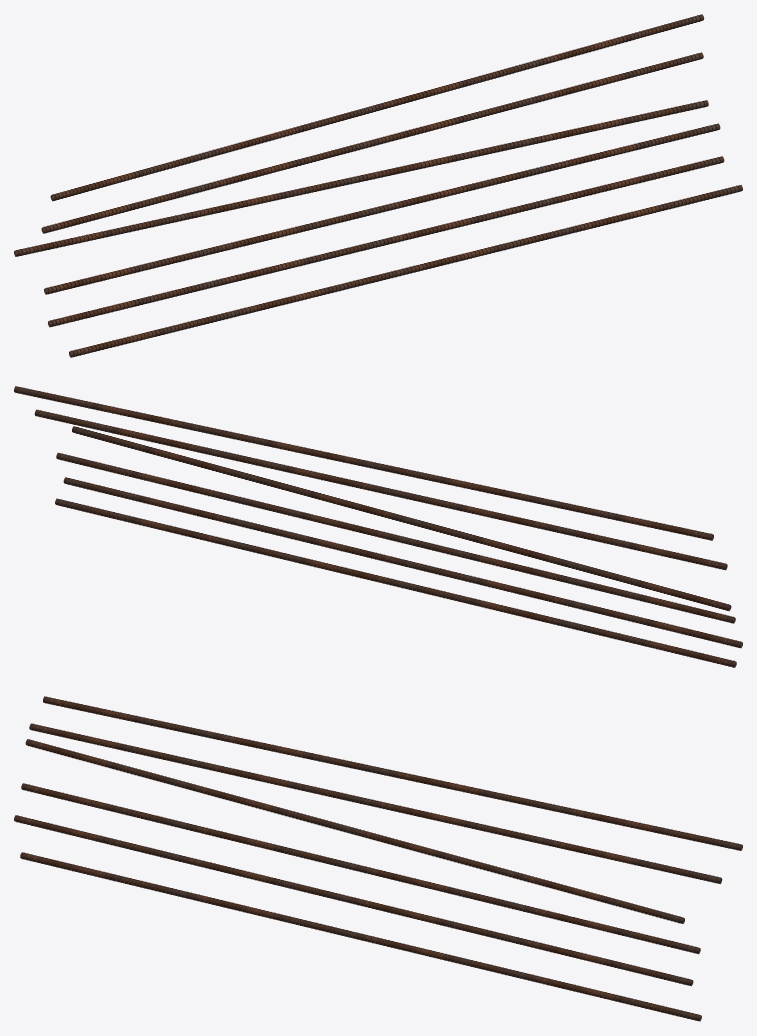
Rendered from EST-ACO-002_anim.glb.
3 views of the same model, one above another, from view 1: azimuth 30°, elevation 25°; view 2: azimuth 150°, elevation 25°; view 3: azimuth 330°, elevation 25° (orthographic).
Parts seen in each view (by area): view 1: EST-ACO-002_anim3, EST-ACO-002_anim1, EST-ACO-002_anim2, EST-ACO-002_anim0, EST-ACO-002_anim4, EST-ACO-002_anim5; view 2: EST-ACO-002_anim5, EST-ACO-002_anim4, EST-ACO-002_anim0, EST-ACO-002_anim2, EST-ACO-002_anim1, EST-ACO-002_anim3; view 3: EST-ACO-002_anim5, EST-ACO-002_anim4, EST-ACO-002_anim0, EST-ACO-002_anim2, EST-ACO-002_anim1, EST-ACO-002_anim3.
Part boxes in pixels (x1,y1,x2,y2): EST-ACO-002_anim3: (14,100,708,256); EST-ACO-002_anim1: (48,156,724,327); EST-ACO-002_anim2: (44,123,720,294); EST-ACO-002_anim0: (69,185,742,357); EST-ACO-002_anim4: (41,52,703,233); EST-ACO-002_anim5: (50,14,704,201); EST-ACO-002_anim5: (14,386,713,540); EST-ACO-002_anim4: (34,409,727,570); EST-ACO-002_anim0: (55,498,736,667); EST-ACO-002_anim2: (56,452,735,623); EST-ACO-002_anim1: (63,477,742,648); EST-ACO-002_anim3: (72,426,731,611); EST-ACO-002_anim5: (43,696,742,850); EST-ACO-002_anim4: (29,723,722,883); EST-ACO-002_anim0: (20,852,701,1021); EST-ACO-002_anim2: (21,783,700,954); EST-ACO-002_anim1: (14,815,693,986); EST-ACO-002_anim3: (25,739,684,923).
Bounding box in the file's own units: 1.04 × 0.209 × 0.1187.
Materials: 1 (1 with a texture image).
